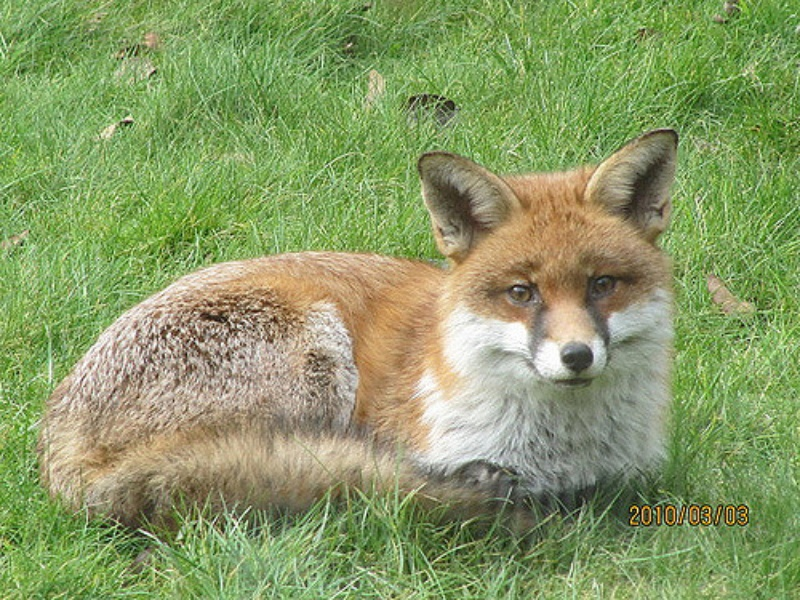fox: (36, 123, 685, 533)
